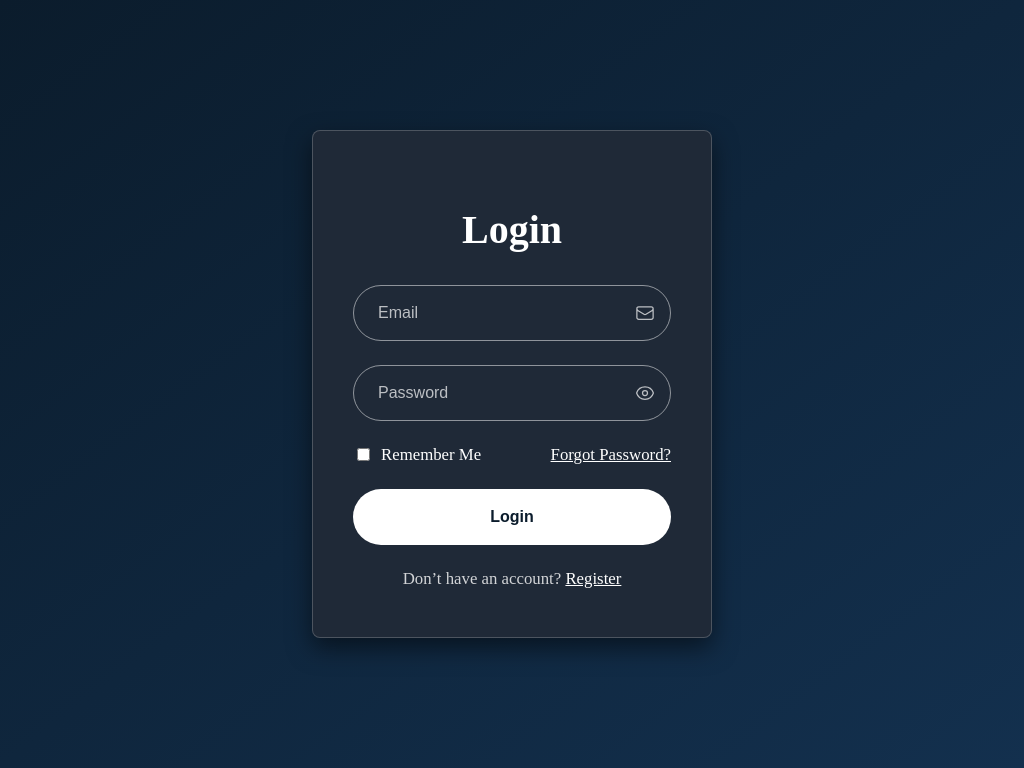
Scenario: LoginPage › displays error message when login fails
In the field with placeholder "Email": x=512, y=313 353,285 -> 671,341, type "test@example.com"
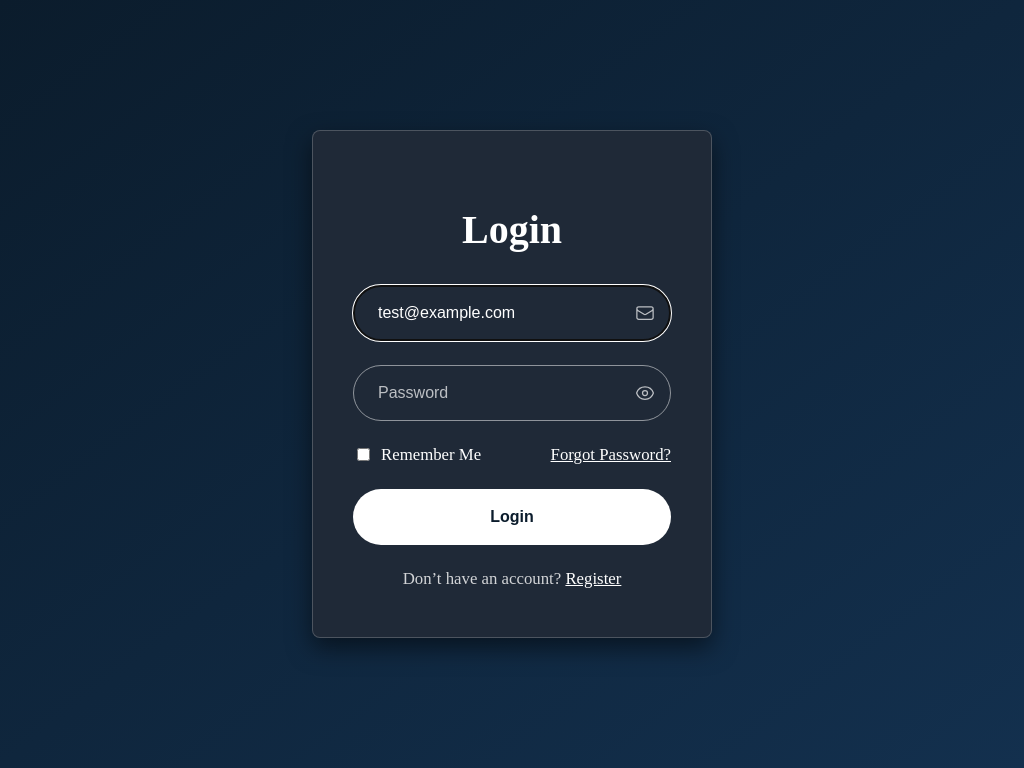
In the password field with placeholder "Password": x=512, y=393 353,365 -> 671,421, type "wrongpassword"
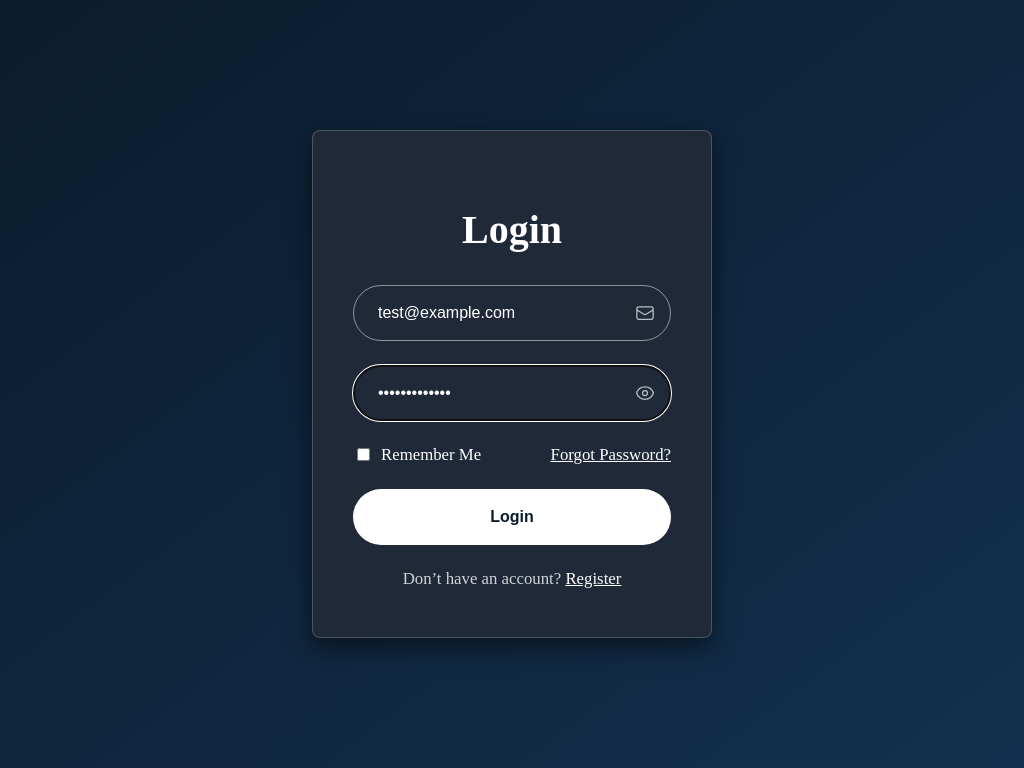
Click the button "Login": x=512, y=517 353,489 -> 671,545
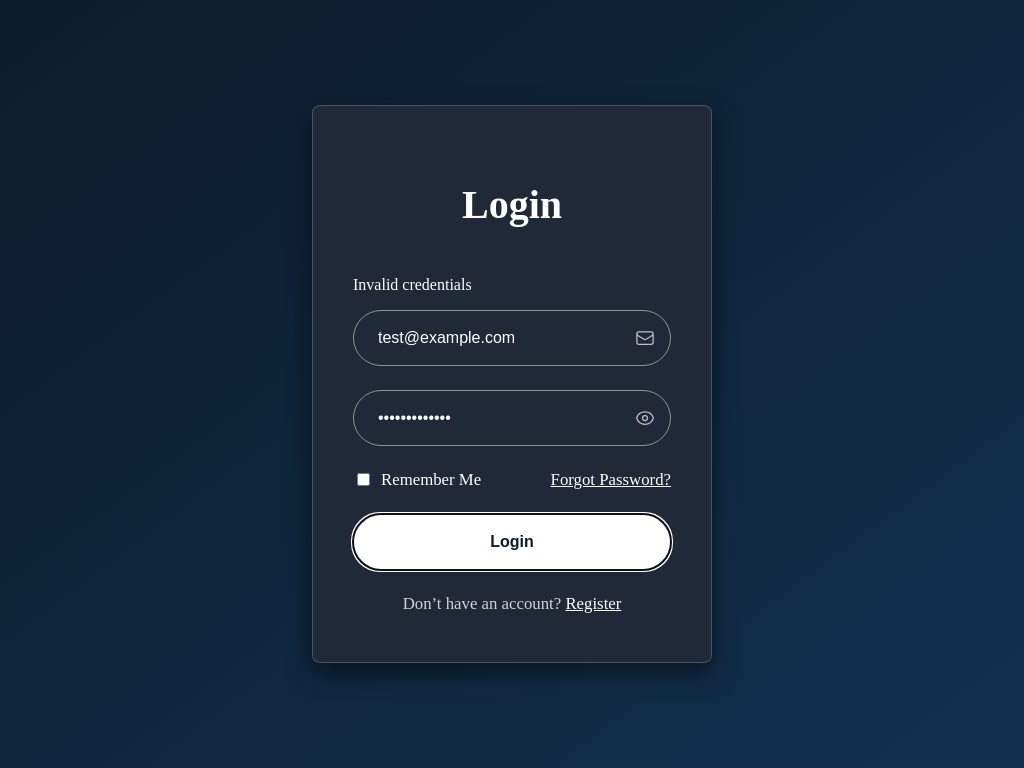
Result: the text "Invalid credentials" is shown at 353,276 -> 472,293
